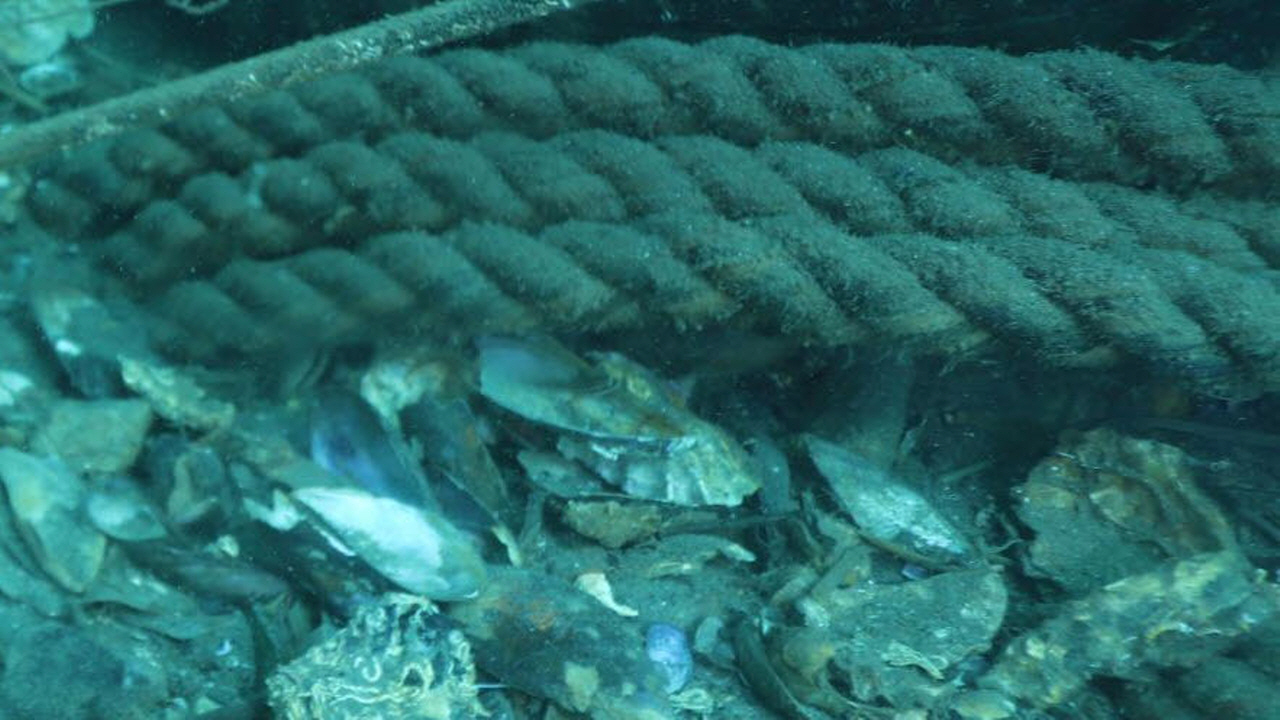bundle of ropes: (22, 34, 1280, 383)
